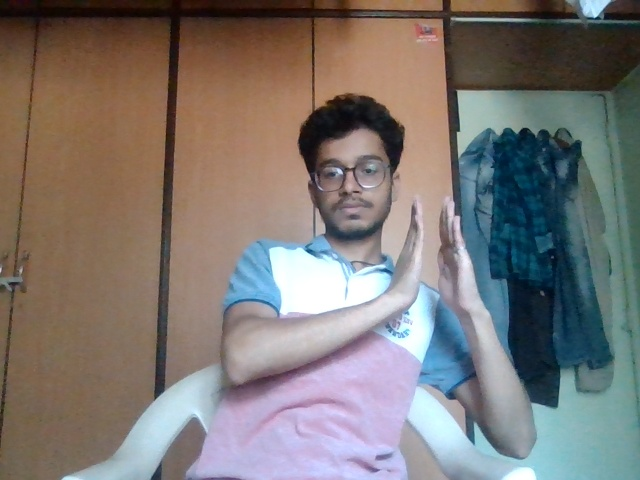morning: (389, 195, 488, 320)
